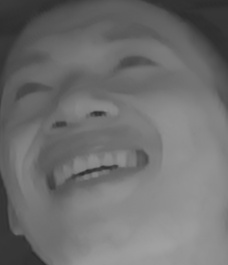eye: (114, 50, 159, 78), (9, 78, 51, 104)
mouth: (29, 134, 156, 203)
